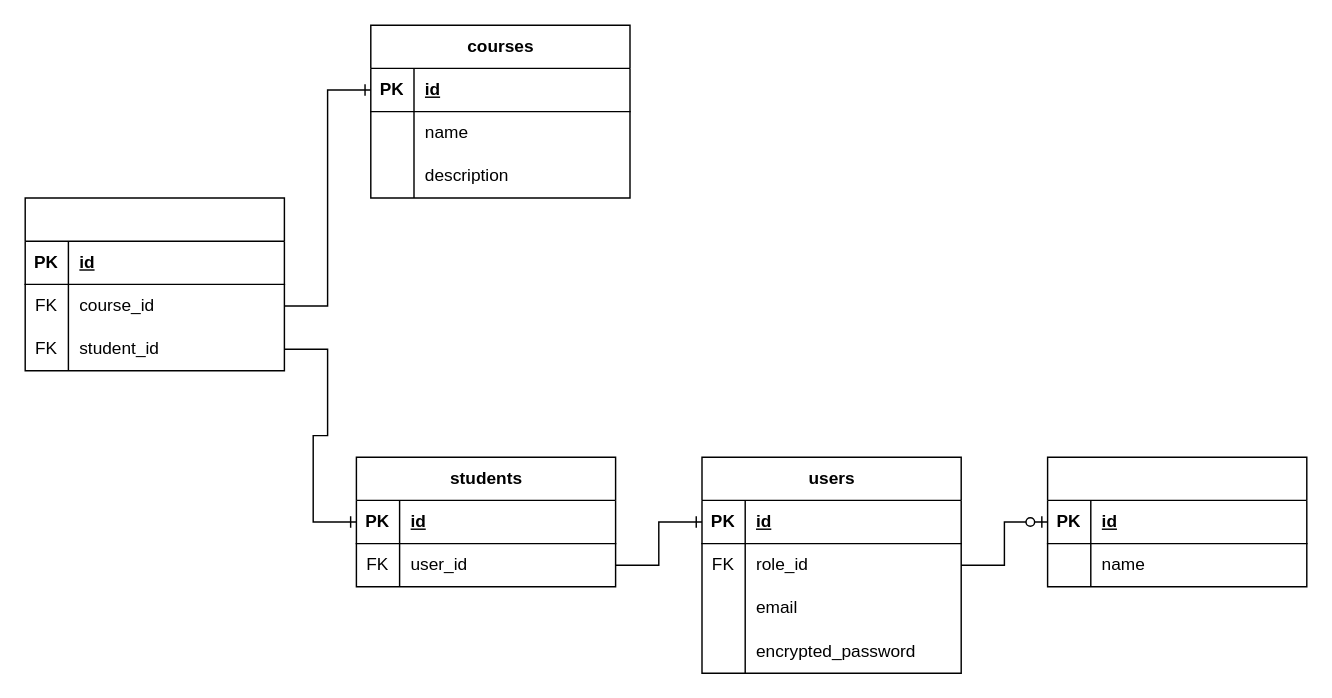
This 1332x698 diagram has some shape labels left out. The box of each missing label's shape, as (x1, y1, x2, y2) in pixels:
registrations: (24, 197, 284, 371)
roles: (1046, 456, 1307, 587)
